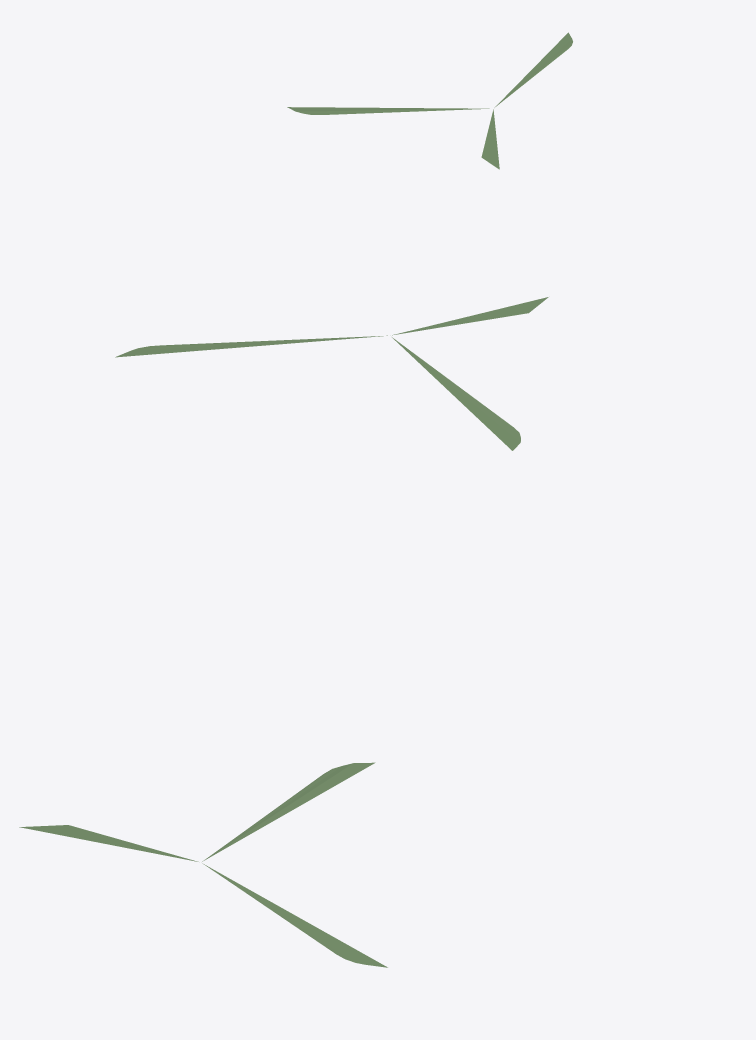
Rendered from c_1634_17829_parks.glb.
The picture shows the model from 3 angles, top to bottom: view 1: azimuth 30°, elevation 25°; view 2: azimuth 150°, elevation 25°; view 3: azimuth 270°, elevation 25°; orthographic projection. The views are drawn at different scales.
Parts seen in each view (by area): view 1: geometry_0; view 2: geometry_0; view 3: geometry_0.
Part boxes in pixels (x1=…): geometry_0: x1=287, y1=32, x2=572, y2=169; geometry_0: x1=115, y1=297, x2=548, y2=450; geometry_0: x1=19, y1=762, x2=387, y2=967.
Size of the model in its own units: 253 by 2.81 by 207.
